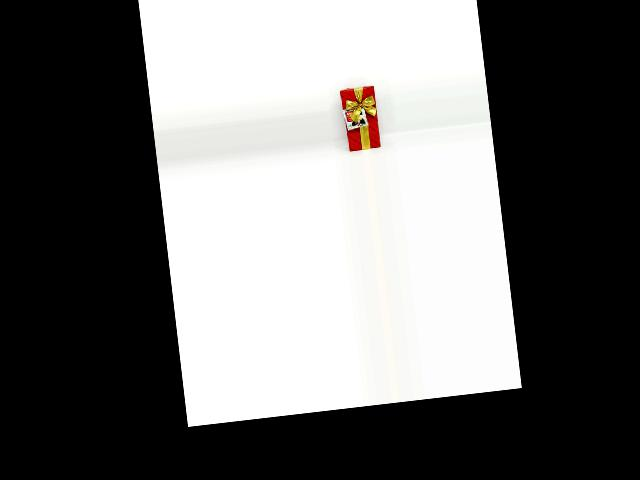chocolate: (339, 83, 383, 151)
